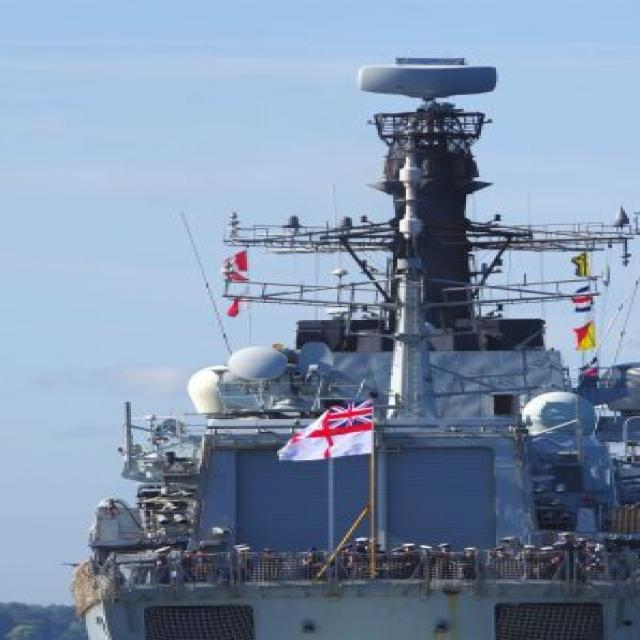Fragata: (65, 38, 640, 640)
